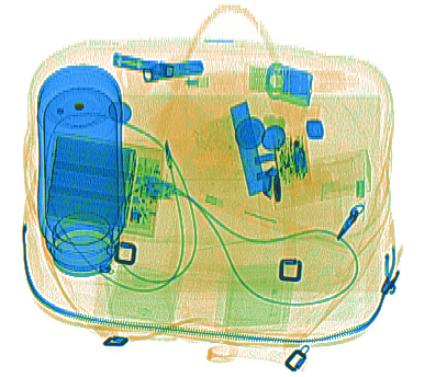USBFlashDisk: (245, 59, 315, 107)
battery: (41, 135, 166, 238)
